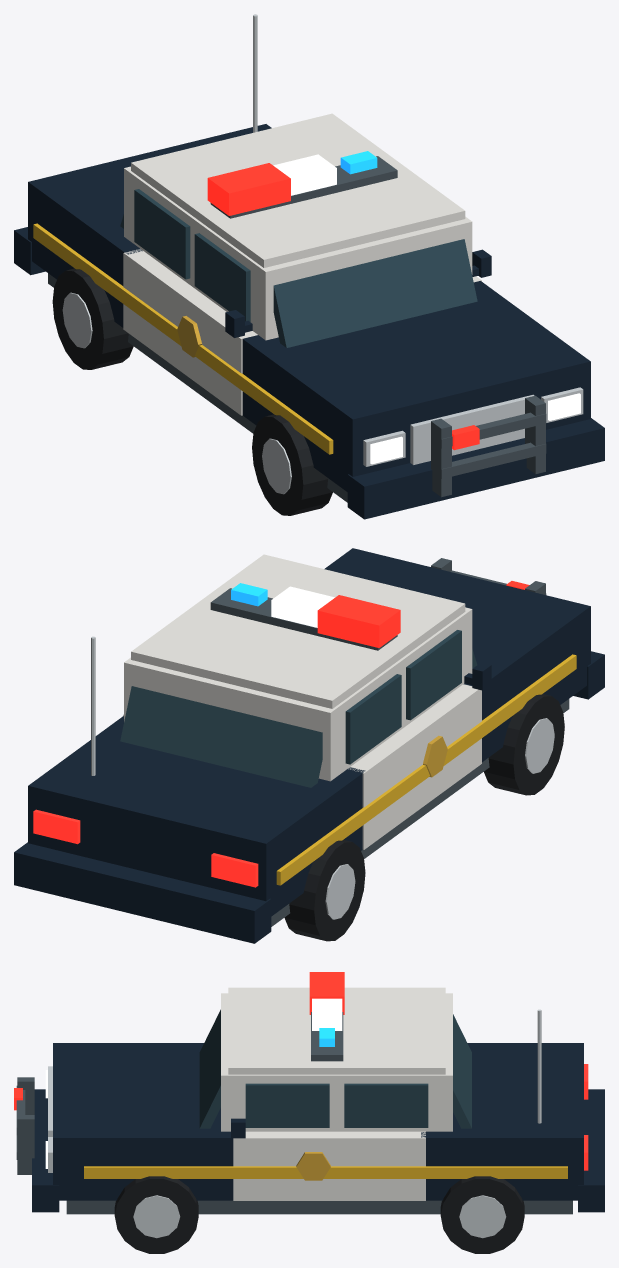
Rendered from squad_car.glb.
3 views of the same model, one above another, from view 1: azimuth 30°, elevation 25°; view 2: azimuth 150°, elevation 25°; view 3: azimuth 270°, elevation 25° (orthographic). The views are drawn at different scales.
Parts seen in each view (by area): view 1: FrontFenderBody, CabinRoof, Windshield, RearTrunkBody, CabinCore, FrontBumper, CenterDoorsBody, SideStripe, WheelFLTire, WheelRLTire, LightbarRedL, SideWindowR (+15 smaller); view 2: RearTrunkBody, CabinRoof, FrontFenderBody, RearBumper, RearWindow, CabinCore, CenterDoorsBody, SideStripe, WheelFLTire, WheelRLTire, LightbarRedL, SideWindowR (+12 smaller); view 3: FrontFenderBody, RearTrunkBody, CabinRoof, CenterDoorsBody, CabinCore, SideStripe.001, ChassisUnderbody, WheelRRTire, WheelFRTire, SideWindowF.001, SideWindowR.001, RearBumper (+12 smaller).
Boxes of the visible parts, x1=… form: FrontFenderBody: x1=242, y1=281, x2=590, y2=491; CabinRoof: x1=131, y1=113, x2=465, y2=267; Windshield: x1=273, y1=239, x2=477, y2=347; RearTrunkBody: x1=28, y1=124, x2=271, y2=327; CabinCore: x1=124, y1=166, x2=472, y2=340; FrontBumper: x1=347, y1=418, x2=604, y2=519; CenterDoorsBody: x1=123, y1=249, x2=481, y2=415; SideStripe: x1=33, y1=223, x2=333, y2=454; WheelFLTire: x1=252, y1=414, x2=332, y2=515; WheelRLTire: x1=52, y1=268, x2=133, y2=369; LightbarRedL: x1=207, y1=163, x2=290, y2=215; SideWindowR: x1=134, y1=189, x2=190, y2=279; RearTrunkBody: x1=28, y1=716, x2=365, y2=916; CabinRoof: x1=131, y1=554, x2=465, y2=708; FrontFenderBody: x1=324, y1=548, x2=590, y2=761; RearBumper: x1=14, y1=842, x2=271, y2=943; RearWindow: x1=120, y1=686, x2=322, y2=787; CabinCore: x1=124, y1=607, x2=472, y2=781; CenterDoorsBody: x1=123, y1=684, x2=481, y2=849; SideStripe: x1=276, y1=654, x2=576, y2=885; WheelFLTire: x1=484, y1=694, x2=564, y2=795; WheelRLTire: x1=284, y1=840, x2=365, y2=941; LightbarRedL: x1=317, y1=595, x2=400, y2=647; SideWindowR: x1=345, y1=674, x2=401, y2=764; FrontFenderBody: x1=53, y1=1043, x2=233, y2=1200; RearTrunkBody: x1=421, y1=1043, x2=583, y2=1200; CabinRoof: x1=228, y1=987, x2=445, y2=1074; CenterDoorsBody: x1=233, y1=1131, x2=425, y2=1200; CabinCore: x1=221, y1=993, x2=452, y2=1131; SideStripe.001: x1=84, y1=1166, x2=567, y2=1178; ChassisUnderbody: x1=66, y1=1200, x2=572, y2=1214; WheelRRTire: x1=440, y1=1176, x2=524, y2=1253; WheelFRTire: x1=114, y1=1176, x2=198, y2=1253; SideWindowF.001: x1=245, y1=1083, x2=329, y2=1127; SideWindowR.001: x1=344, y1=1083, x2=428, y2=1127; RearBumper: x1=578, y1=1089, x2=604, y2=1212.
Size of the model in its own units: 2.02 by 2 by 4.79.
